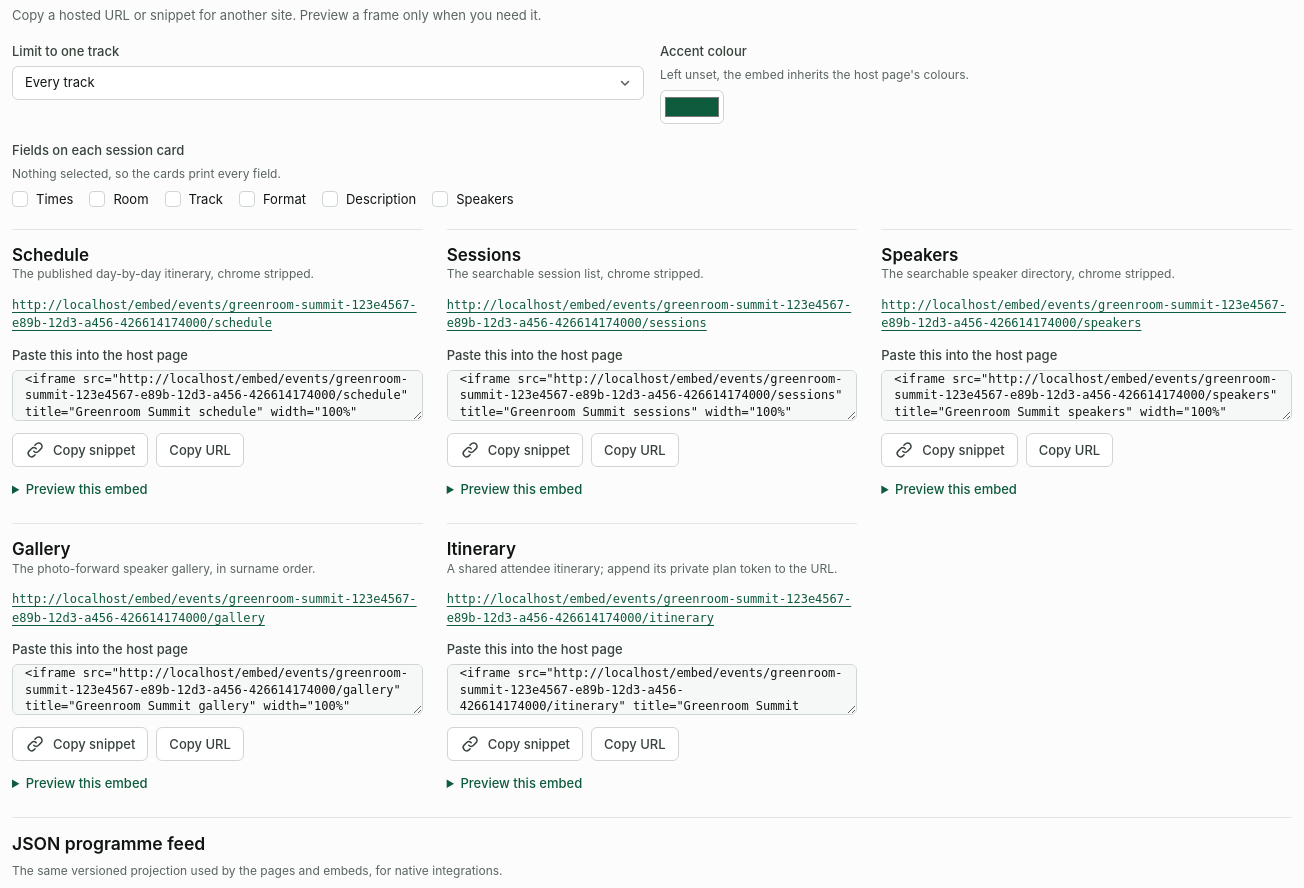
it: PublishingWorkspace › announces a copied embed URL in its own panel too
(page scrolled)
Click the button with aria-label "Copy URL for the Speakers embed" at [1069, 450], box left=1026, top=433, right=1113, bottom=467
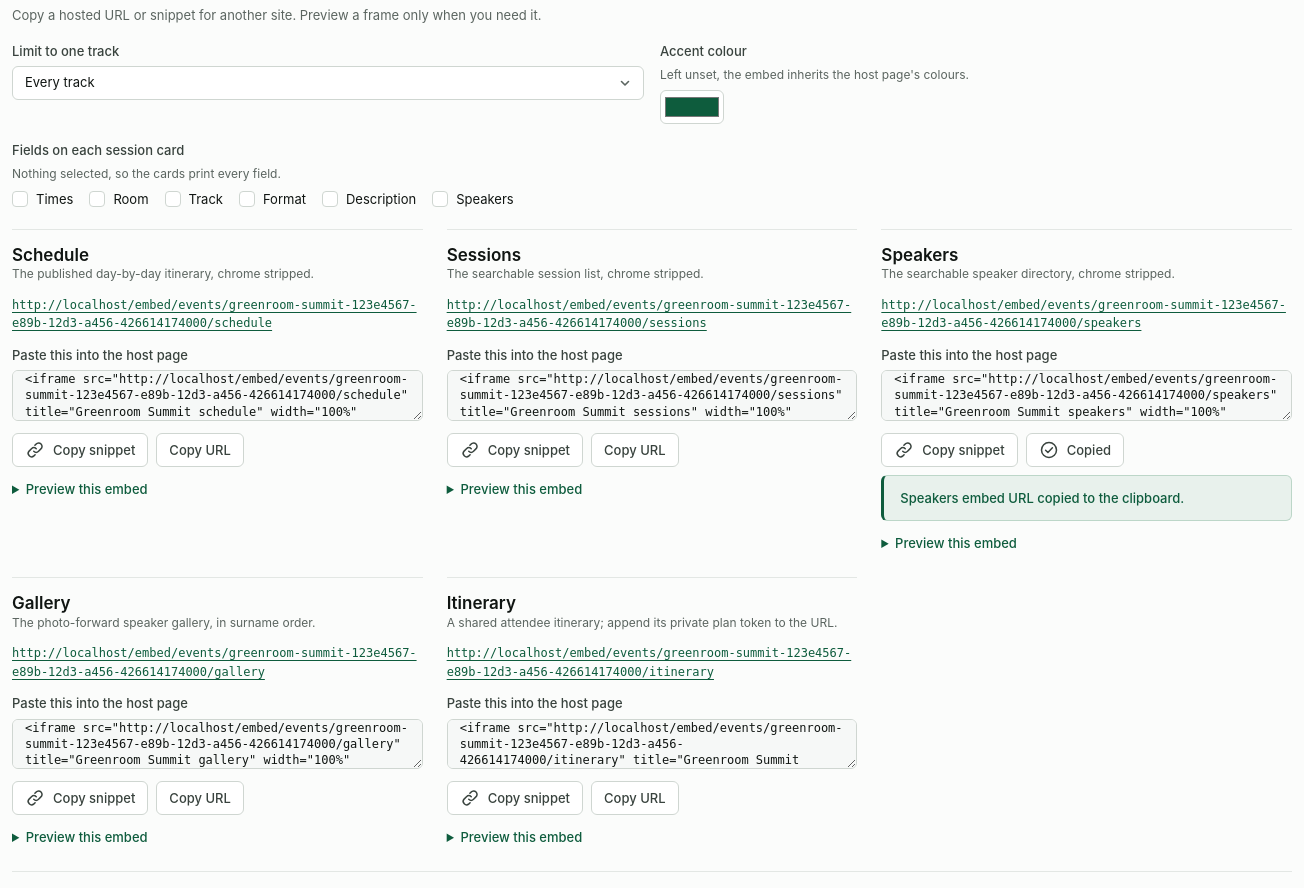
Result: the button named "Copy URL for the Speakers embed" reads "Copied" at left=1026, top=433, right=1124, bottom=467
